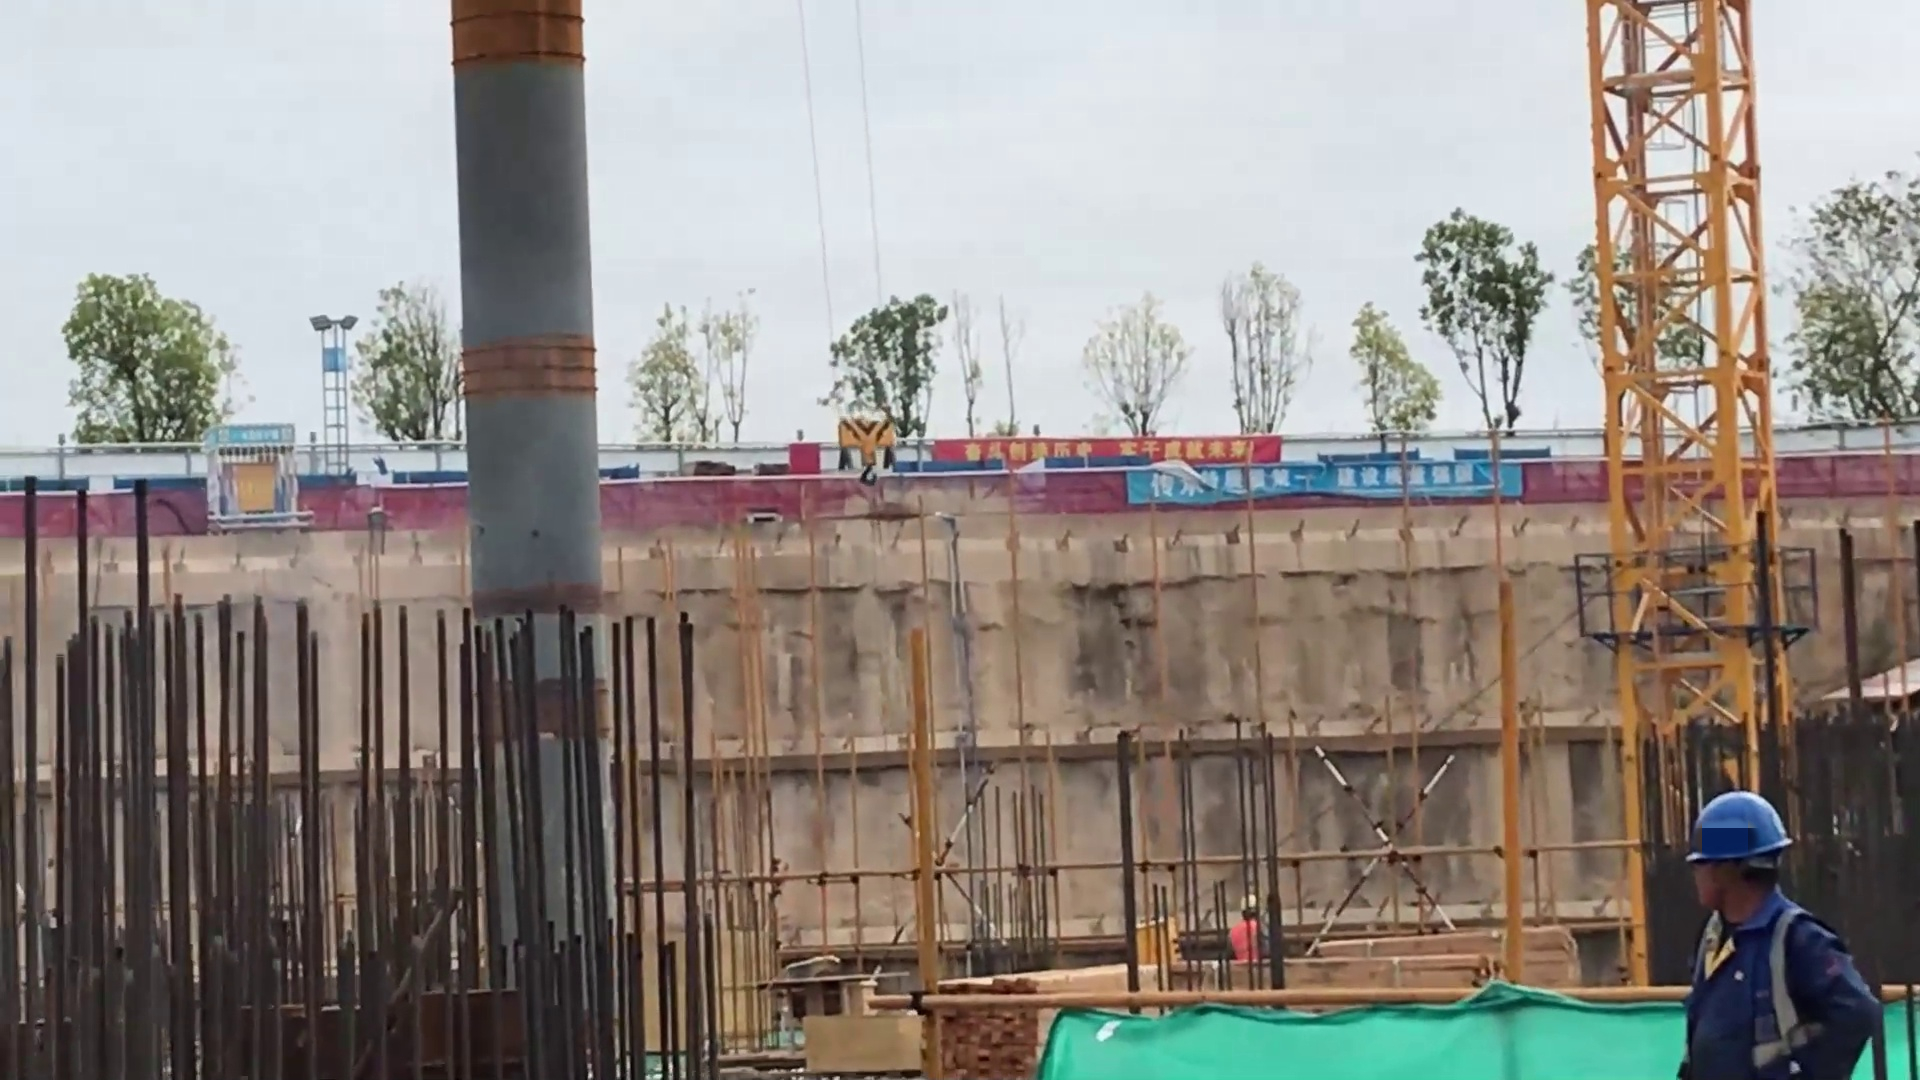ebox: (224, 457, 278, 512), (1135, 913, 1178, 965)
helmet: (1688, 791, 1792, 865)
hook: (832, 411, 902, 491)
person: (1674, 787, 1881, 1080), (1221, 894, 1270, 961)
slogan: (1126, 463, 1522, 505), (932, 436, 1280, 462)
vest: (1679, 906, 1879, 1080), (1232, 921, 1260, 962)
wood: (1289, 935, 1577, 984), (939, 978, 1041, 1078)
